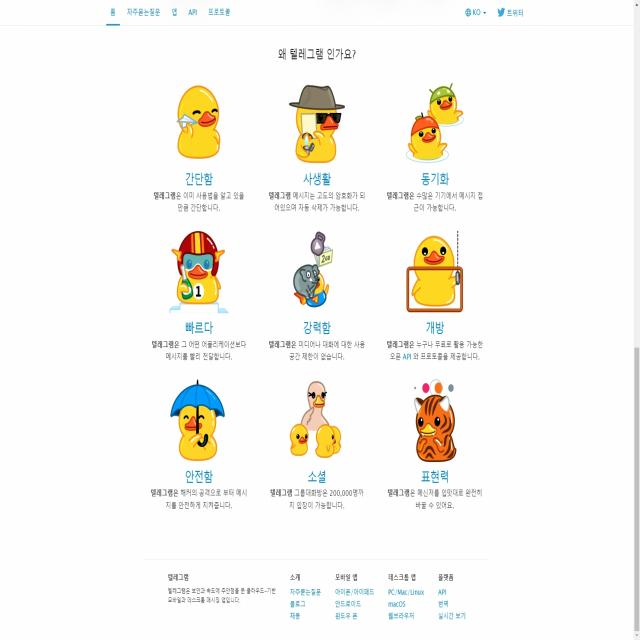menu-bar: (99, 3, 233, 27), (460, 2, 528, 22)
